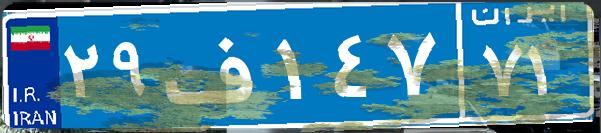1: (273, 28, 330, 110), (525, 38, 570, 115)
2: (57, 26, 110, 107)
4: (330, 28, 385, 110)
7: (385, 28, 445, 110), (475, 38, 525, 113)
9: (110, 28, 158, 105)
ف: (158, 15, 273, 115)
